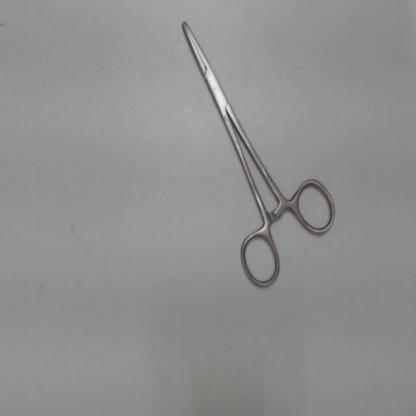Mayo Needle Holder: (166, 3, 344, 296)
